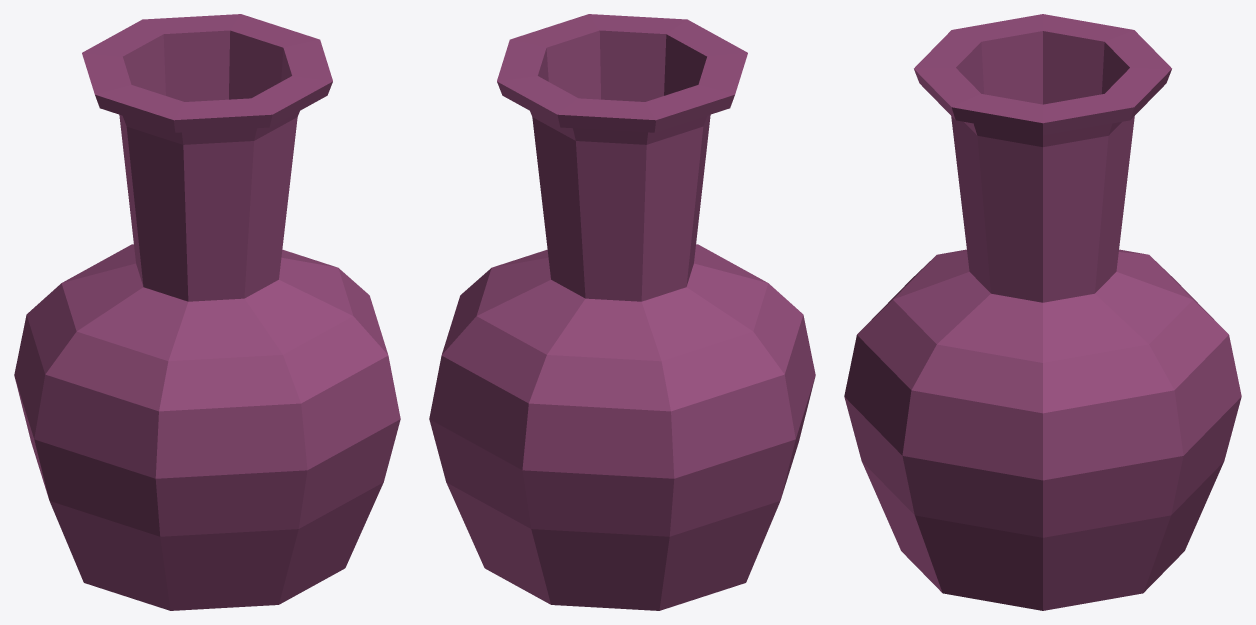
File: Pink Vase.fbx
3 views of the same model, side by side, from view 1: azimuth 30°, elevation 25°; view 2: azimuth 150°, elevation 25°; view 3: azimuth 270°, elevation 25° (orthographic).
Visible parts, largest first — view 1: Pink Vase; view 2: Pink Vase; view 3: Pink Vase.
Part boxes in pixels (x1,y1,x2,y2): Pink Vase: (14, 14, 400, 610); Pink Vase: (429, 14, 815, 610); Pink Vase: (844, 14, 1241, 610).
Size of the model in its own units: 0.241 by 0.3233 by 0.241.
